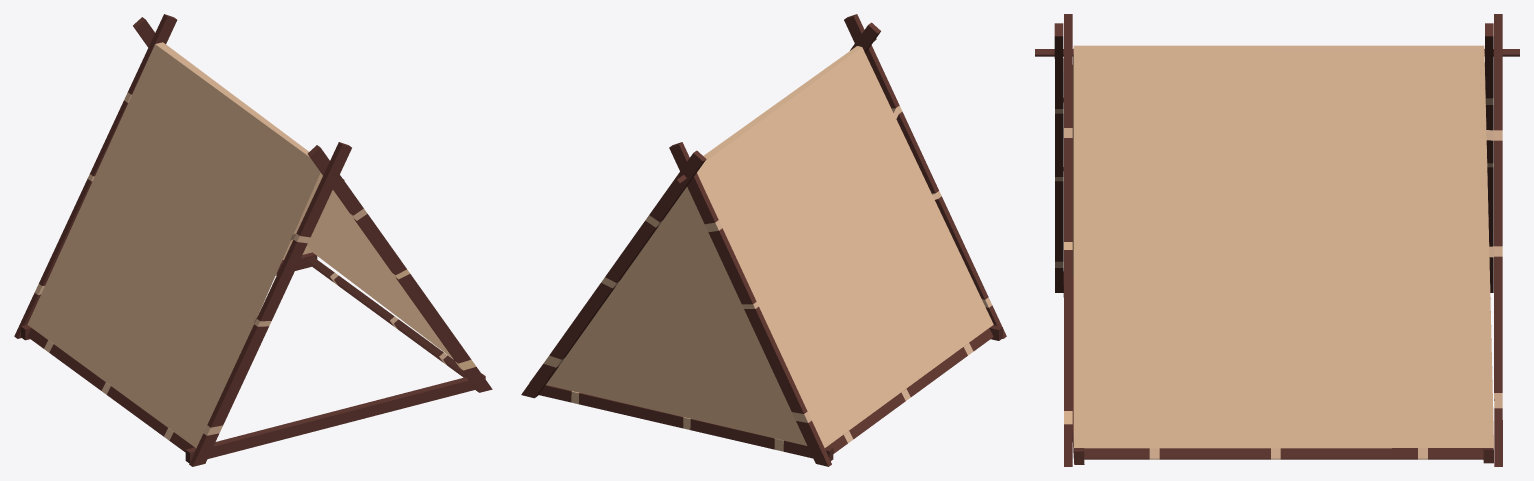
The model's file is tent.fbx.
The picture shows the model from 3 angles, left to right: view 1: azimuth 30°, elevation 25°; view 2: azimuth 150°, elevation 25°; view 3: azimuth 270°, elevation 25°; orthographic projection. The views are drawn at different scales.
Parts seen in each view (by area): view 1: Plane; view 2: Plane; view 3: Plane.
Boxes of the visible parts, bbox=[...] form: Plane: bbox=[14, 14, 492, 466]; Plane: bbox=[521, 14, 1006, 466]; Plane: bbox=[1035, 14, 1519, 466].
Size of the model in its own units: 148 by 133 by 166.
